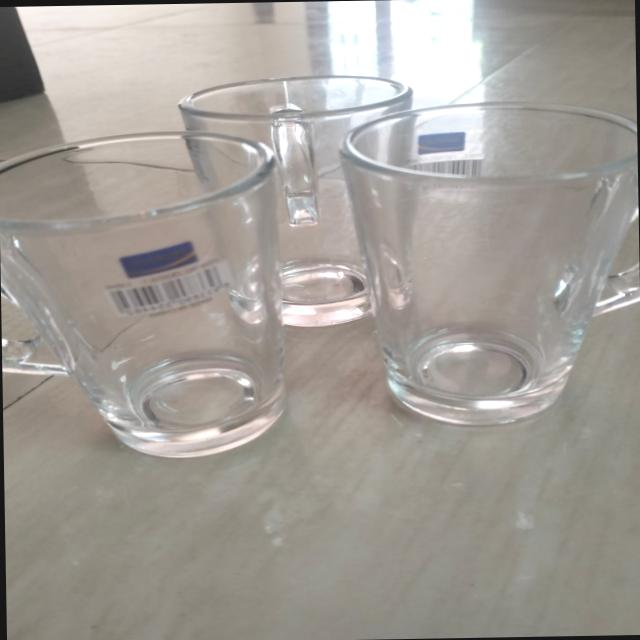glass-VX4N: (338, 97, 640, 438), (0, 132, 287, 458), (172, 72, 420, 328)
